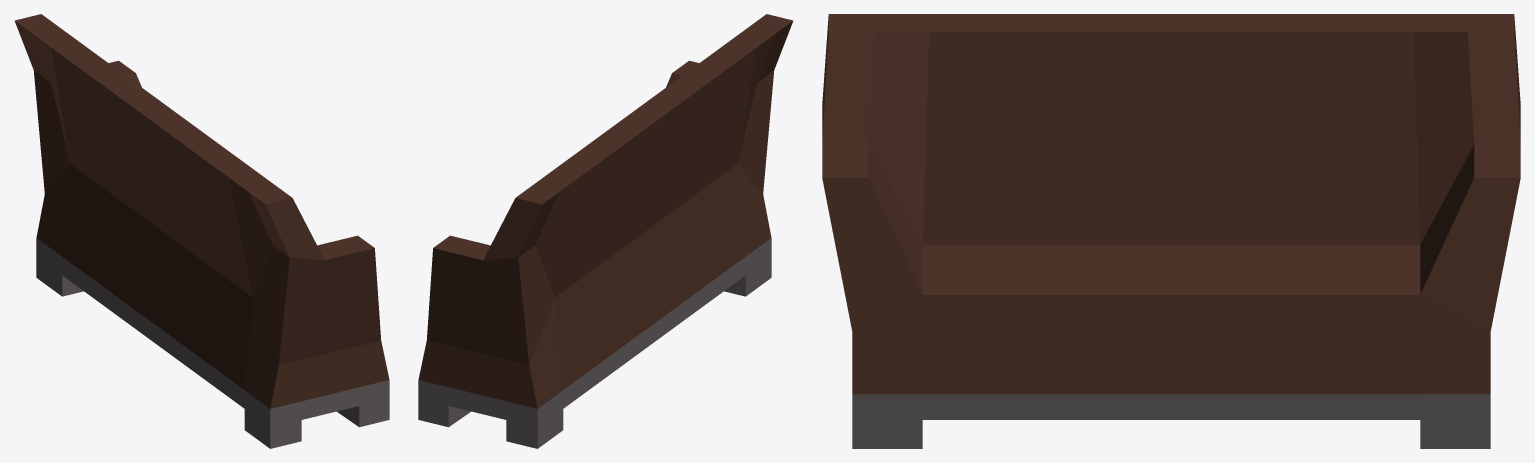
Rendered from couch.fbx.
3 renders of one model, left to right at view 1: azimuth 30°, elevation 25°; view 2: azimuth 150°, elevation 25°; view 3: azimuth 270°, elevation 25°, orthographic. The views are drawn at different scales.
Visible parts, largest first — view 1: couch; view 2: couch; view 3: couch.
Boxes of the visible parts, x1,y1,x2,y2 form: couch: (14, 14, 389, 448); couch: (418, 14, 793, 448); couch: (822, 14, 1520, 448).
Size of the model in its own units: 2.59 by 4.74 by 8.65.
